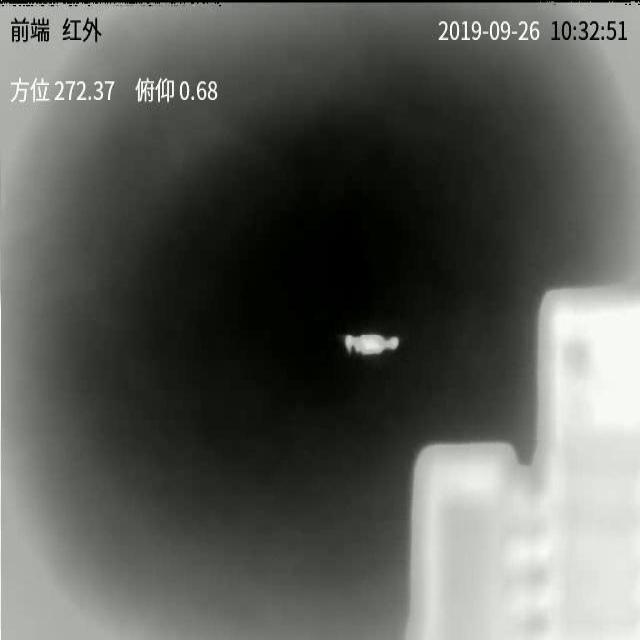drone: (344, 335, 399, 355)
